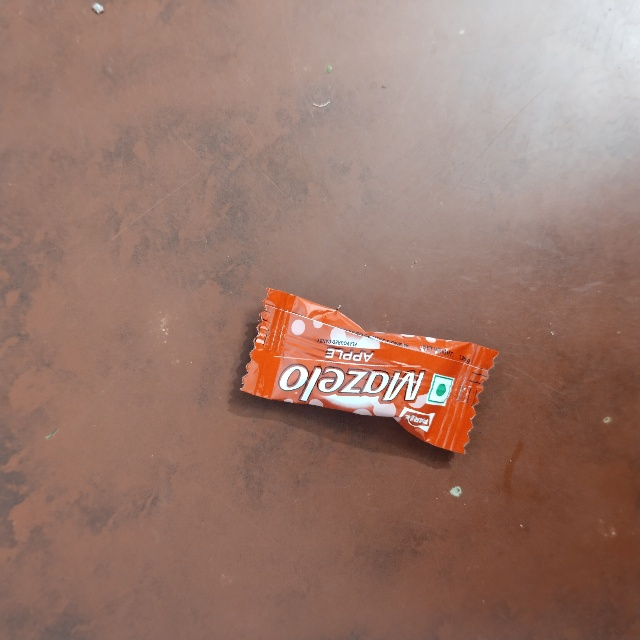Mazelo: (265, 274, 504, 392)
